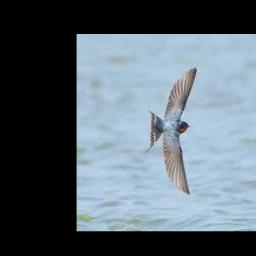Swallow: (143, 67, 196, 195)
